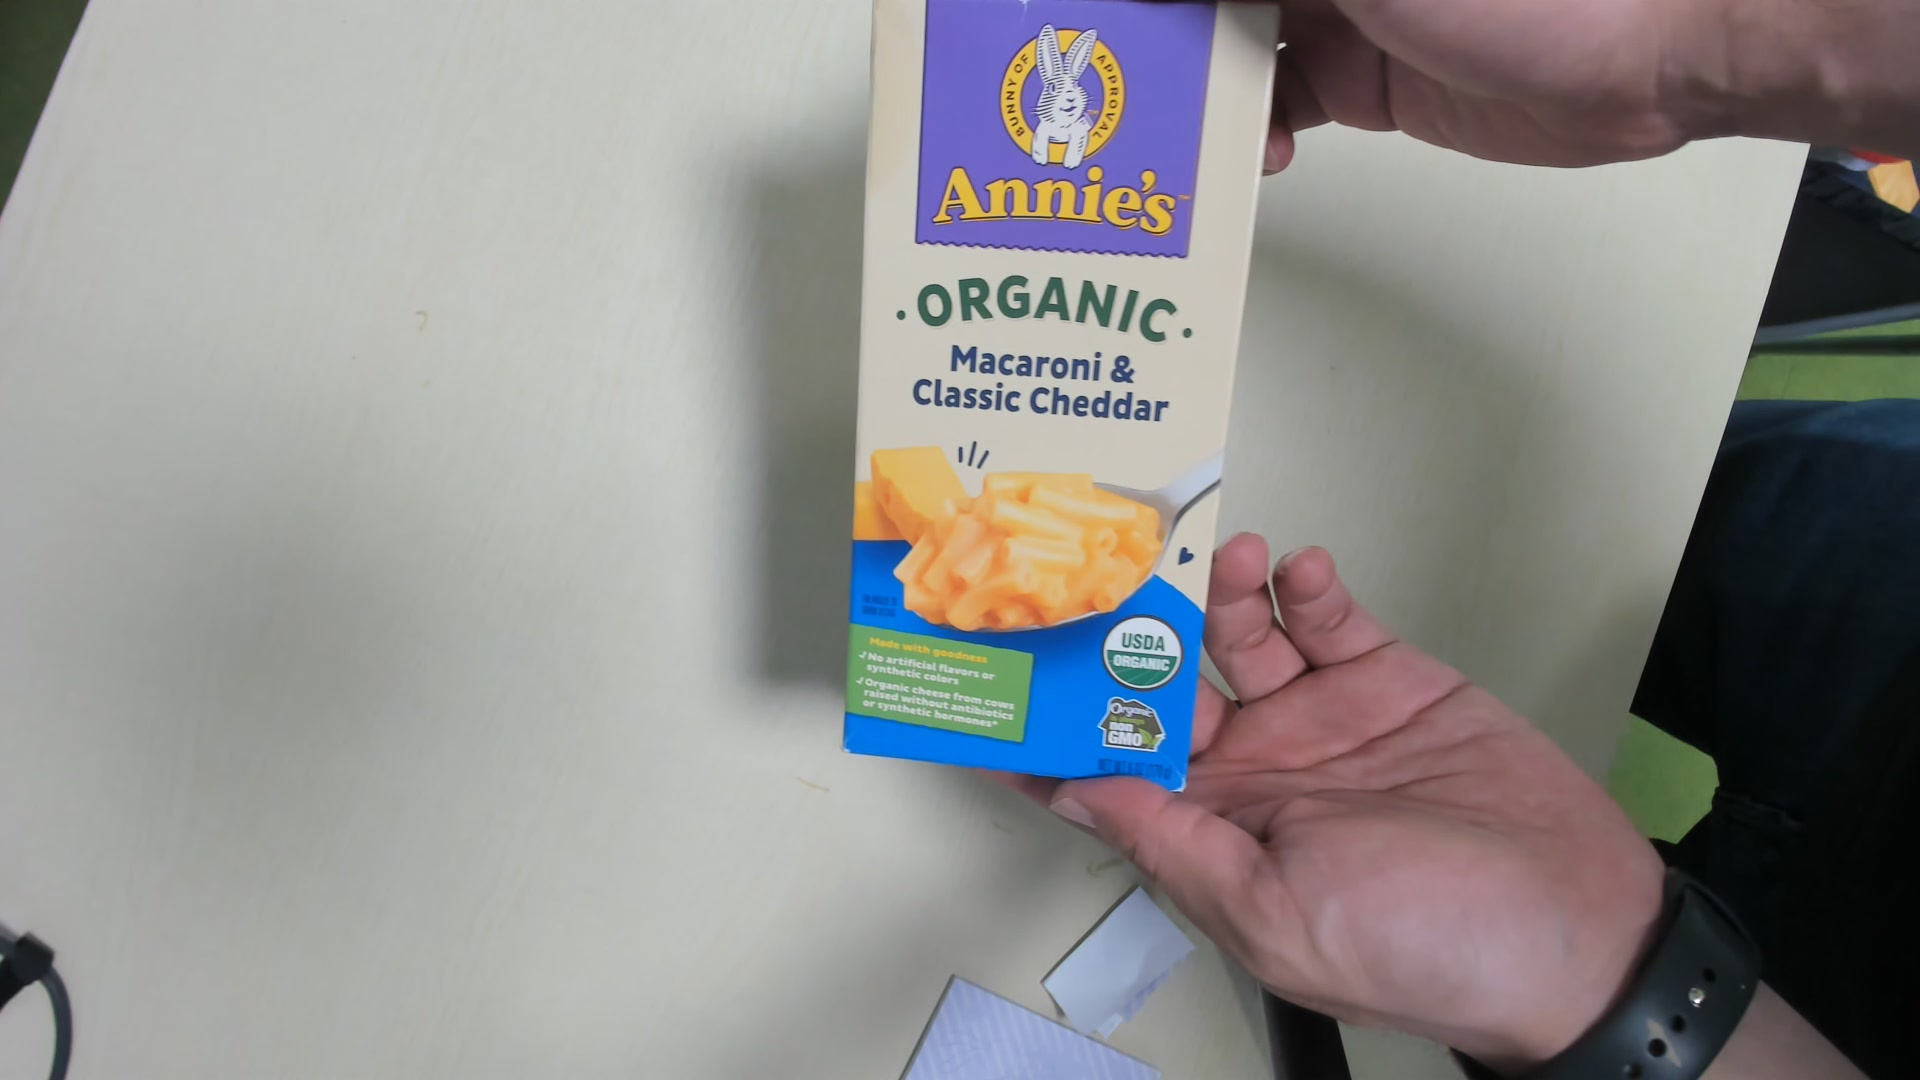InstantMeals_100_199g_NonHalal_NonHealthy: (835, 3, 1288, 793)
